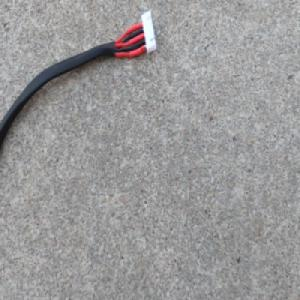Wire: (0, 9, 157, 157)
